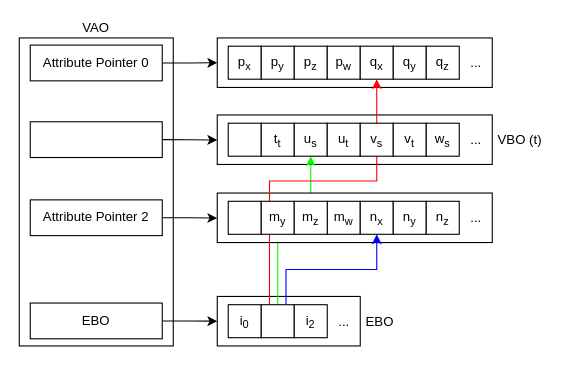
This 563x365 diagram has some shape labels left out. The box of each missing label's shape, as (x1, y1, x2, y2) in pixels:
Attribute Pointer 1: (29, 121, 162, 158)
i 1: (260, 304, 294, 338)
m x: (227, 200, 261, 234)
t s: (227, 122, 261, 156)
VBO (n): (216, 192, 492, 243)
VBO (p): (216, 37, 492, 87)
